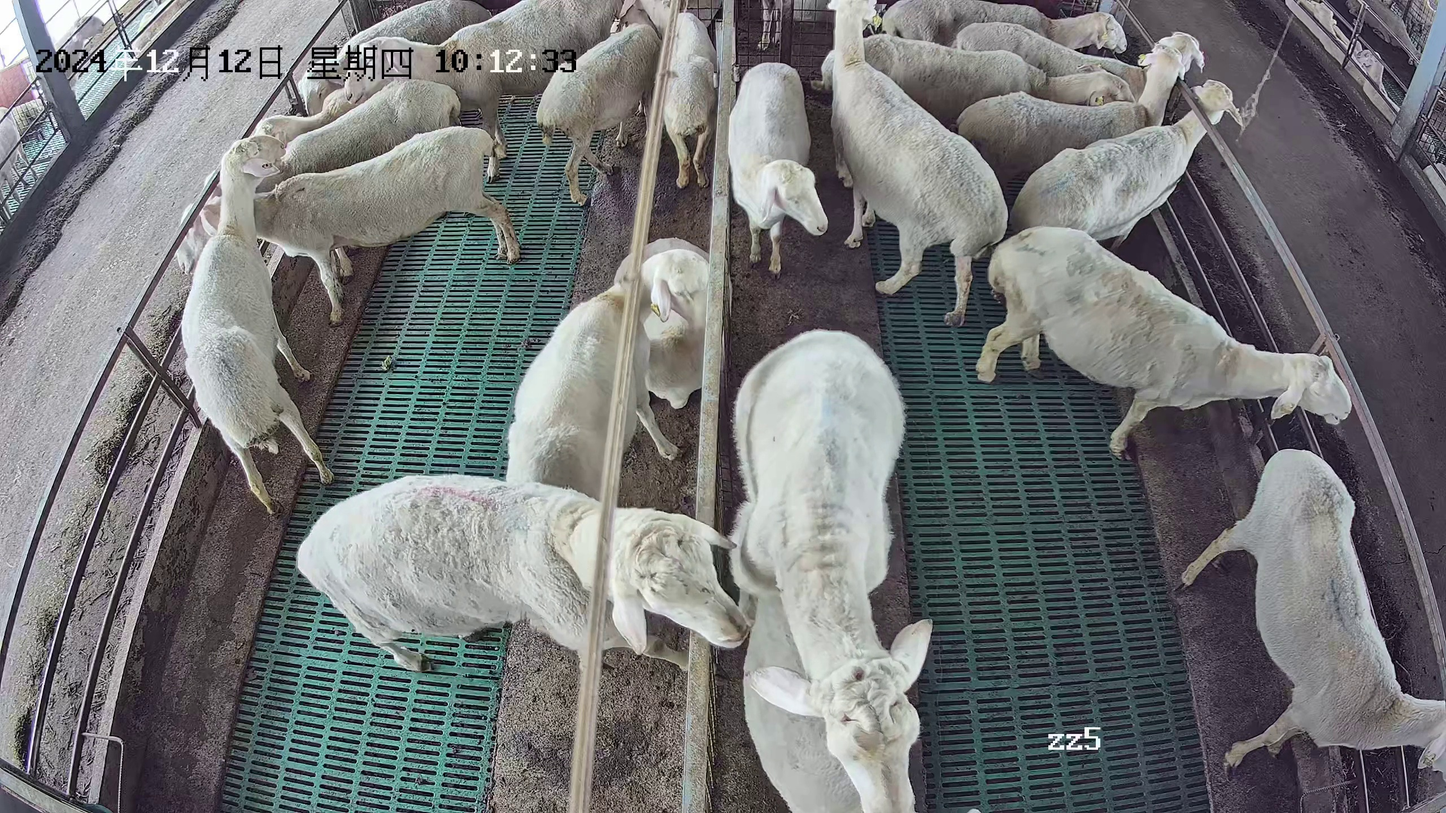Smounting: (721, 327, 917, 813)
mounted: (739, 587, 863, 813)
